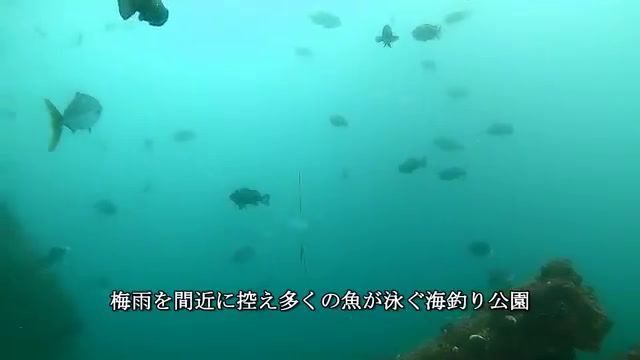smallfish: (42, 89, 111, 151), (121, 1, 168, 36), (227, 181, 269, 217), (373, 18, 405, 58), (408, 20, 452, 43), (392, 152, 423, 177)
